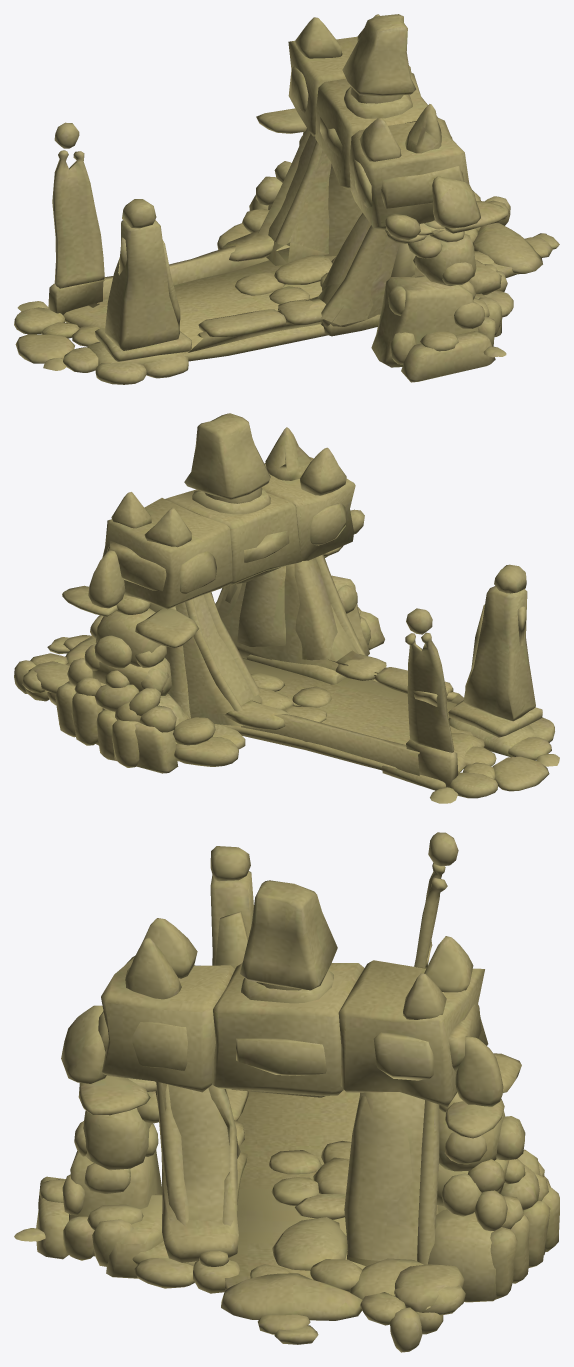
Rendered from site_tomb.glb.
3 renders of one model, top to bottom at view 1: azimuth 30°, elevation 25°; view 2: azimuth 150°, elevation 25°; view 3: azimuth 270°, elevation 25°, orthographic. The views are drawn at different scales.
Size of the model in its own units: 1 by 0.5251 by 0.7113.
1 material, 1 textured.
